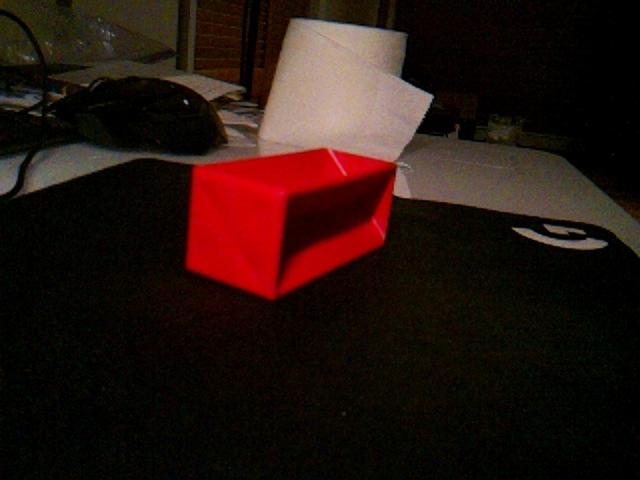red: (184, 146, 399, 301)
